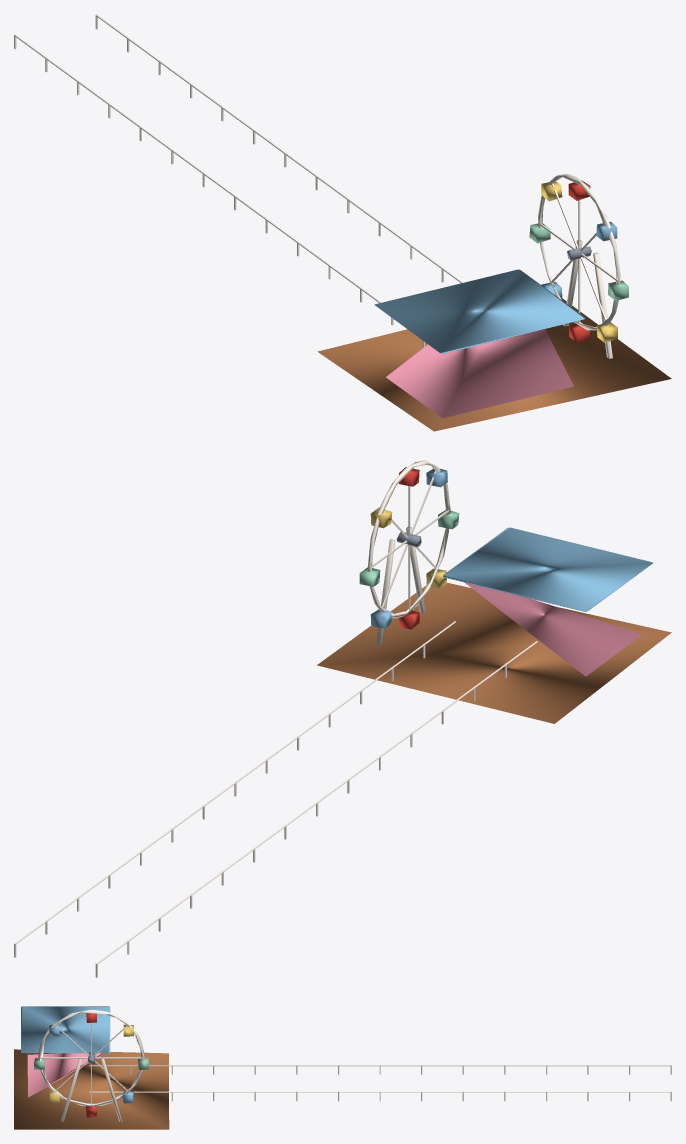
File: pier.glb
The picture shows the model from 3 angles, top to bottom: view 1: azimuth 30°, elevation 25°; view 2: azimuth 150°, elevation 25°; view 3: azimuth 270°, elevation 25°; orthographic projection. The views are drawn at different scales.
Visible parts, largest first — view 1: pier.004, wheel.004, legs; view 2: pier.004, wheel.004, legs; view 3: pier.004, wheel.004, legs.
Boxes of the visible parts, <box> form: pier.004: <box>14,14,671,431</box>; wheel.004: <box>529,174,628,342</box>; legs: <box>563,240,612,358</box>; pier.004: <box>14,527,671,977</box>; wheel.004: <box>359,460,459,629</box>; legs: <box>375,526,425,645</box>; pier.004: <box>14,1006,671,1129</box>; wheel.004: <box>34,1009,148,1117</box>; legs: <box>61,1058,122,1121</box>.
Bounding box in the file's own units: 13.98 × 9.72 × 50.62.
Materials: 1 (1 with a texture image).
